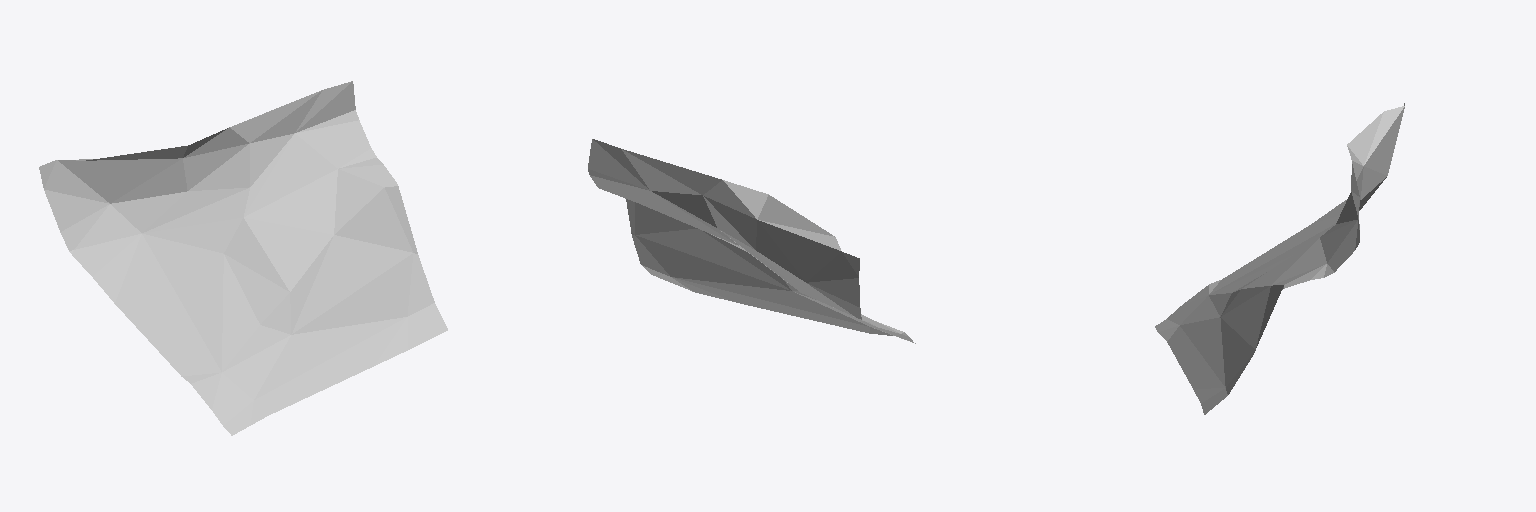
The model's file is HAND_new_110.obj.
3 renders of one model, left to right at view 1: azimuth 30°, elevation 25°; view 2: azimuth 150°, elevation 25°; view 3: azimuth 270°, elevation 25°, orthographic.
Bounding box in the file's own units: 30.29 × 21.16 × 21.27.